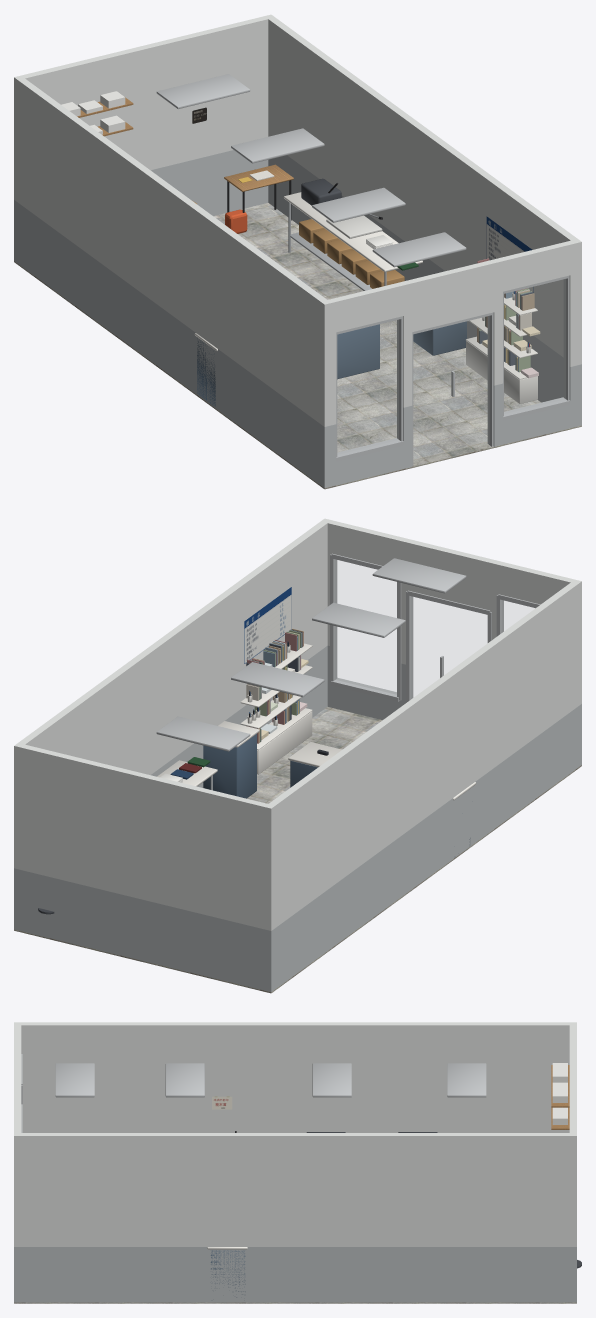
Rendered from wz_print_interior.glb.
The picture shows the model from 3 angles, top to bottom: view 1: azimuth 30°, elevation 25°; view 2: azimuth 150°, elevation 25°; view 3: azimuth 270°, elevation 25°; orthographic projection. The views are drawn at different scales.
Visible parts, largest first — view 1: WALL_left_left_paint, WALL_right_right_paint, WALL_front_front_glass, WALL_back_back_paint, WALL_left_left_lower, wzs_floor, WALL_front_front_paint, wzs_frame_alu, WALL_front_front_lower, WALL_front_front_frame_alu, WALL_right_right_lower, WALL_back_back_lower (+11 smaller); view 2: WALL_left_left_paint, WALL_back_back_paint, WALL_right_right_paint, WALL_left_left_lower, WALL_back_back_lower, WALL_front_front_glass, WALL_front_front_paint, wzs_frame_alu, wzs_floor, WALL_front_front_frame_alu, wzs_white, wzs_vc_parts (+5 smaller); view 3: WALL_right_right_paint, WALL_left_left_paint, WALL_right_right_lower, wzs_frame_alu, WALL_back_back_paint, WALL_front_front_paint, wzs_floor, WALL_back_back_paper, wzs_counter_fr, WALL_front_front_lower, WALL_back_back_lower, WALL_back_back_wood_lt.
Part boxes in pixels (left/top/right/bottom): WALL_left_left_paint: left=14, top=76, right=331, bottom=426; WALL_right_right_paint: left=264, top=15, right=581, bottom=365; WALL_front_front_glass: left=338, top=279, right=565, bottom=461; WALL_back_back_paint: left=14, top=14, right=274, bottom=202; WALL_left_left_lower: left=14, top=200, right=331, bottom=487; wzs_floor: left=14, top=203, right=581, bottom=489; WALL_front_front_paint: left=320, top=239, right=581, bottom=426; wzs_frame_alu: left=156, top=74, right=466, bottom=267; WALL_front_front_lower: left=320, top=364, right=581, bottom=487; WALL_front_front_frame_alu: left=336, top=275, right=570, bottom=465; WALL_right_right_lower: left=268, top=155, right=581, bottom=426; WALL_back_back_lower: left=14, top=150, right=268, bottom=262; WALL_left_left_paint: left=264, top=579, right=581, bottom=930; WALL_back_back_paint: left=14, top=743, right=275, bottom=930; WALL_right_right_paint: left=14, top=519, right=329, bottom=869; WALL_left_left_lower: left=264, top=705, right=581, bottom=991; WALL_back_back_lower: left=14, top=868, right=275, bottom=992; WALL_front_front_glass: left=336, top=560, right=534, bottom=697; WALL_front_front_paint: left=321, top=518, right=581, bottom=706; wzs_frame_alu: left=156, top=558, right=466, bottom=751; wzs_floor: left=14, top=707, right=581, bottom=993; WALL_front_front_frame_alu: left=330, top=553, right=540, bottom=702; wzs_white: left=240, top=643, right=312, bottom=774; wzs_vc_parts: left=170, top=628, right=328, bottom=779; WALL_right_right_paint: left=14, top=1133, right=576, bottom=1246; WALL_left_left_paint: left=14, top=1022, right=576, bottom=1132; WALL_right_right_lower: left=14, top=1247, right=575, bottom=1302; wzs_frame_alu: left=55, top=1063, right=486, bottom=1097; WALL_back_back_paint: left=569, top=1022, right=576, bottom=1246; WALL_front_front_paint: left=14, top=1022, right=21, bottom=1246; wzs_floor: left=14, top=1302, right=576, bottom=1303; WALL_back_back_paper: left=552, top=1063, right=567, bottom=1124; wzs_counter_fr: left=210, top=1250, right=245, bottom=1297; WALL_front_front_lower: left=14, top=1247, right=21, bottom=1302; WALL_back_back_lower: left=569, top=1247, right=576, bottom=1302; WALL_back_back_wood_lt: left=551, top=1065, right=569, bottom=1129.
Bounding box in the file's own units: 4.44 × 3.02 × 9.28.
20 materials, 4 textured.
